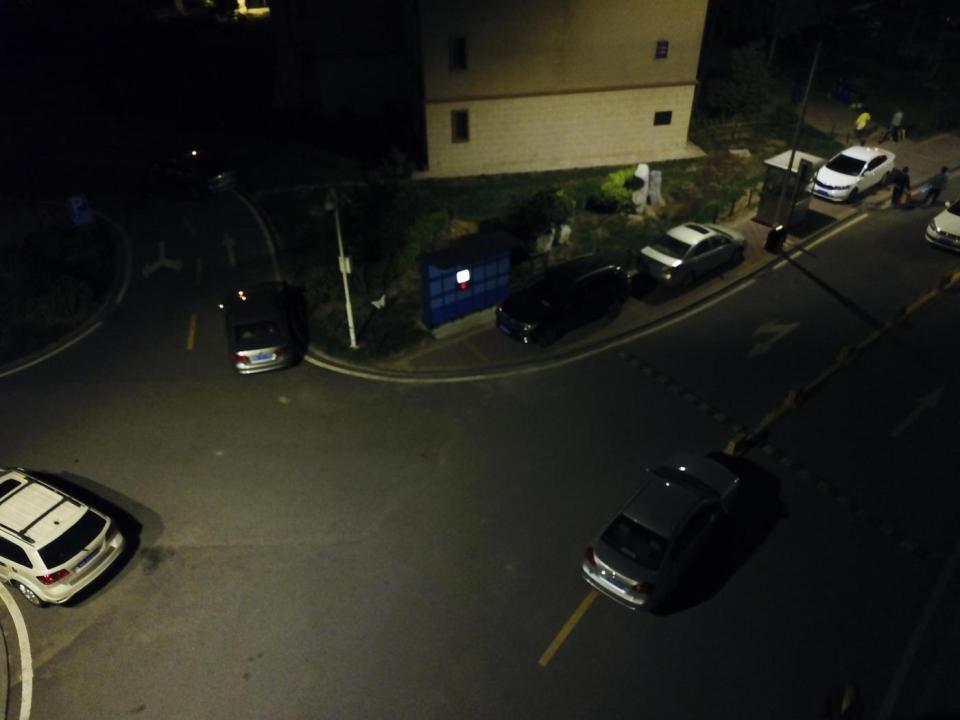car: (579, 451, 741, 615), (0, 463, 128, 607), (495, 258, 631, 348), (636, 219, 746, 290), (218, 280, 290, 375), (806, 144, 896, 204), (147, 153, 237, 202), (923, 192, 960, 255)
